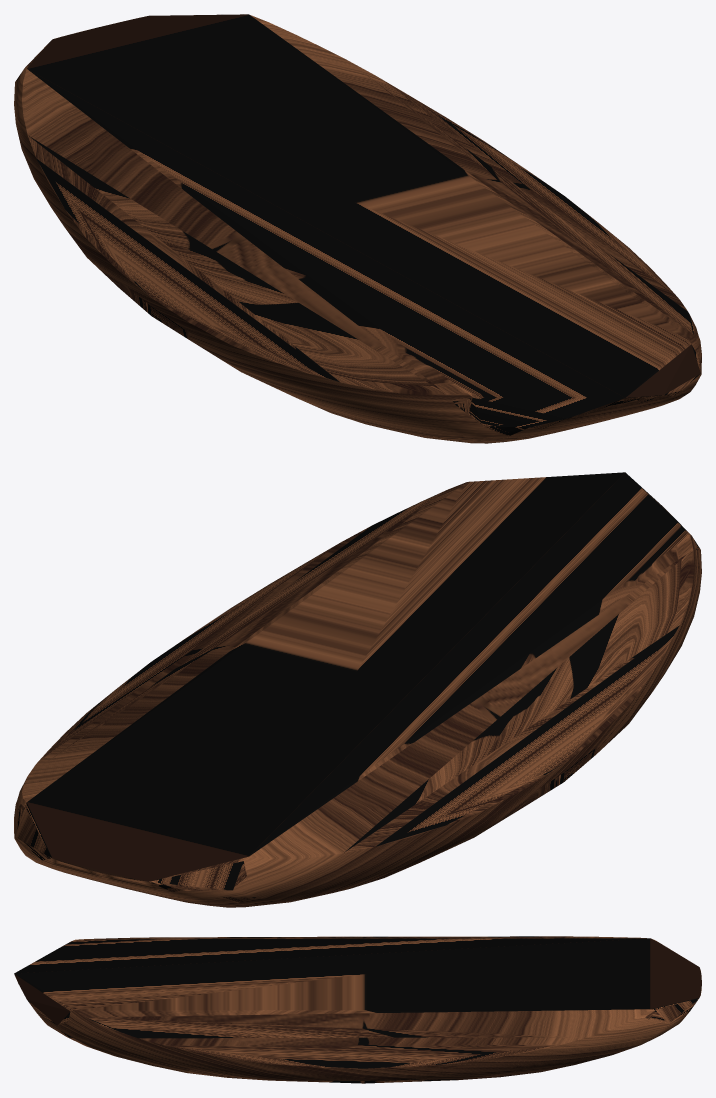
File: shipHull.fbx
3 views of the same model, one above another, from view 1: azimuth 30°, elevation 25°; view 2: azimuth 150°, elevation 25°; view 3: azimuth 270°, elevation 25° (orthographic). The views are drawn at different scales.
Visible parts, largest first — view 1: Mesh_MainShip; view 2: Mesh_MainShip; view 3: Mesh_MainShip.
Part boxes in pixels (x1,y1,x2,y2): Mesh_MainShip: (14,14,701,443); Mesh_MainShip: (14,472,701,907); Mesh_MainShip: (14,936,701,1083).
Size of the model in its own units: 341 by 77.27 by 750.
